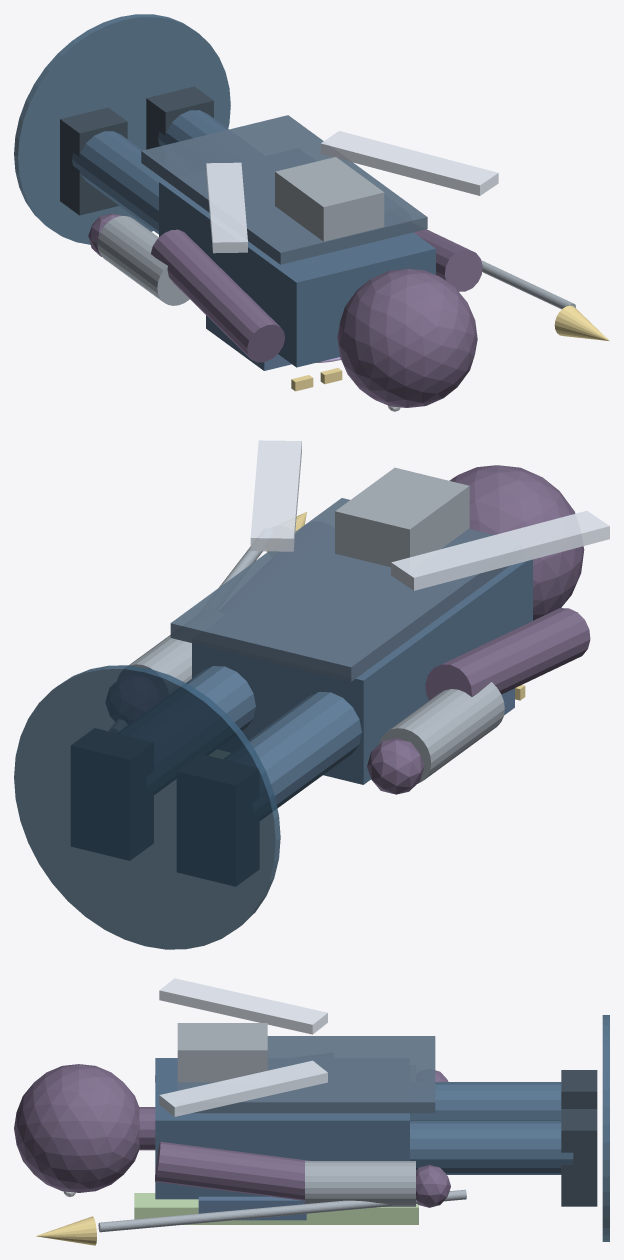
File: SW_NPC_030_eris_aerieson.glb
3 renders of one model, top to bottom at view 1: azimuth 30°, elevation 25°; view 2: azimuth 150°, elevation 25°; view 3: azimuth 270°, elevation 25°, orthographic. The views are drawn at different scales.
Parts seen in each view (by area): view 1: round_base_plate, head, torso_uniform, storm_cloak, left_upper_arm, wingpack_core, left_leg, right_wing_rig, left_forearm_gauntlet, left_boot, left_wing_rig, right_boot (+5 smaller); view 2: round_base_plate, storm_cloak, torso_uniform, wingpack_core, head, left_upper_arm, left_leg, left_wing_rig, left_forearm_gauntlet, right_wing_rig, left_hand, right_leg (+1 smaller); view 3: head, torso_uniform, storm_cloak, right_leg, right_upper_arm, left_leg, wingpack_core, right_forearm_gauntlet, right_wing_rig, left_wing_rig, rank_sash, right_boot (+7 smaller).
Part boxes in pixels (<box>): round_base_plate: <box>14,14,230,244</box>; head: <box>337,268,477,407</box>; torso_uniform: <box>159,180,435,367</box>; storm_cloak: <box>141,115,427,264</box>; left_upper_arm: <box>151,229,284,362</box>; wingpack_core: <box>275,157,384,241</box>; left_leg: <box>72,131,164,234</box>; right_wing_rig: <box>320,131,498,195</box>; left_forearm_gauntlet: <box>97,216,189,305</box>; left_boot: <box>60,107,127,215</box>; left_wing_rig: <box>206,162,247,253</box>; right_boot: <box>146,86,213,149</box>; round_base_plate: <box>14,665,280,949</box>; storm_cloak: <box>170,498,509,681</box>; torso_uniform: <box>192,559,532,784</box>; wingpack_core: <box>335,467,469,567</box>; head: <box>449,465,584,620</box>; left_upper_arm: <box>425,608,590,700</box>; left_leg: <box>248,692,361,808</box>; left_wing_rig: <box>391,511,609,590</box>; left_forearm_gauntlet: <box>379,682,504,783</box>; right_wing_rig: <box>250,440,301,551</box>; left_hand: <box>367,738,424,794</box>; right_leg: <box>186,666,255,730</box>; head: <box>14,1064,139,1192</box>; torso_uniform: <box>155,1058,409,1199</box>; storm_cloak: <box>177,1036,435,1113</box>; right_leg: <box>410,1121,573,1174</box>; right_upper_arm: <box>155,1141,309,1200</box>; left_leg: <box>410,1082,561,1120</box>; wingpack_core: <box>177,1023,267,1082</box>; right_forearm_gauntlet: <box>305,1161,415,1206</box>; right_wing_rig: <box>159,1060,327,1116</box>; left_wing_rig: <box>159,978,327,1034</box>; rank_sash: <box>134,1193,418,1224</box>; right_boot: <box>561,1109,597,1206</box>.
Bounding box in the file's own units: 1.19 × 0.7812 × 2.05.
